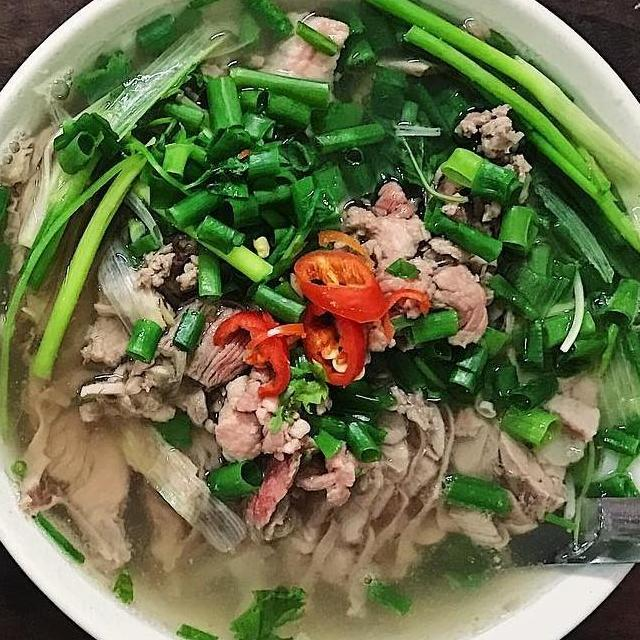thit bo: (303, 366, 606, 620), (68, 298, 358, 528), (13, 310, 142, 570), (326, 174, 496, 360), (255, 5, 352, 90)
